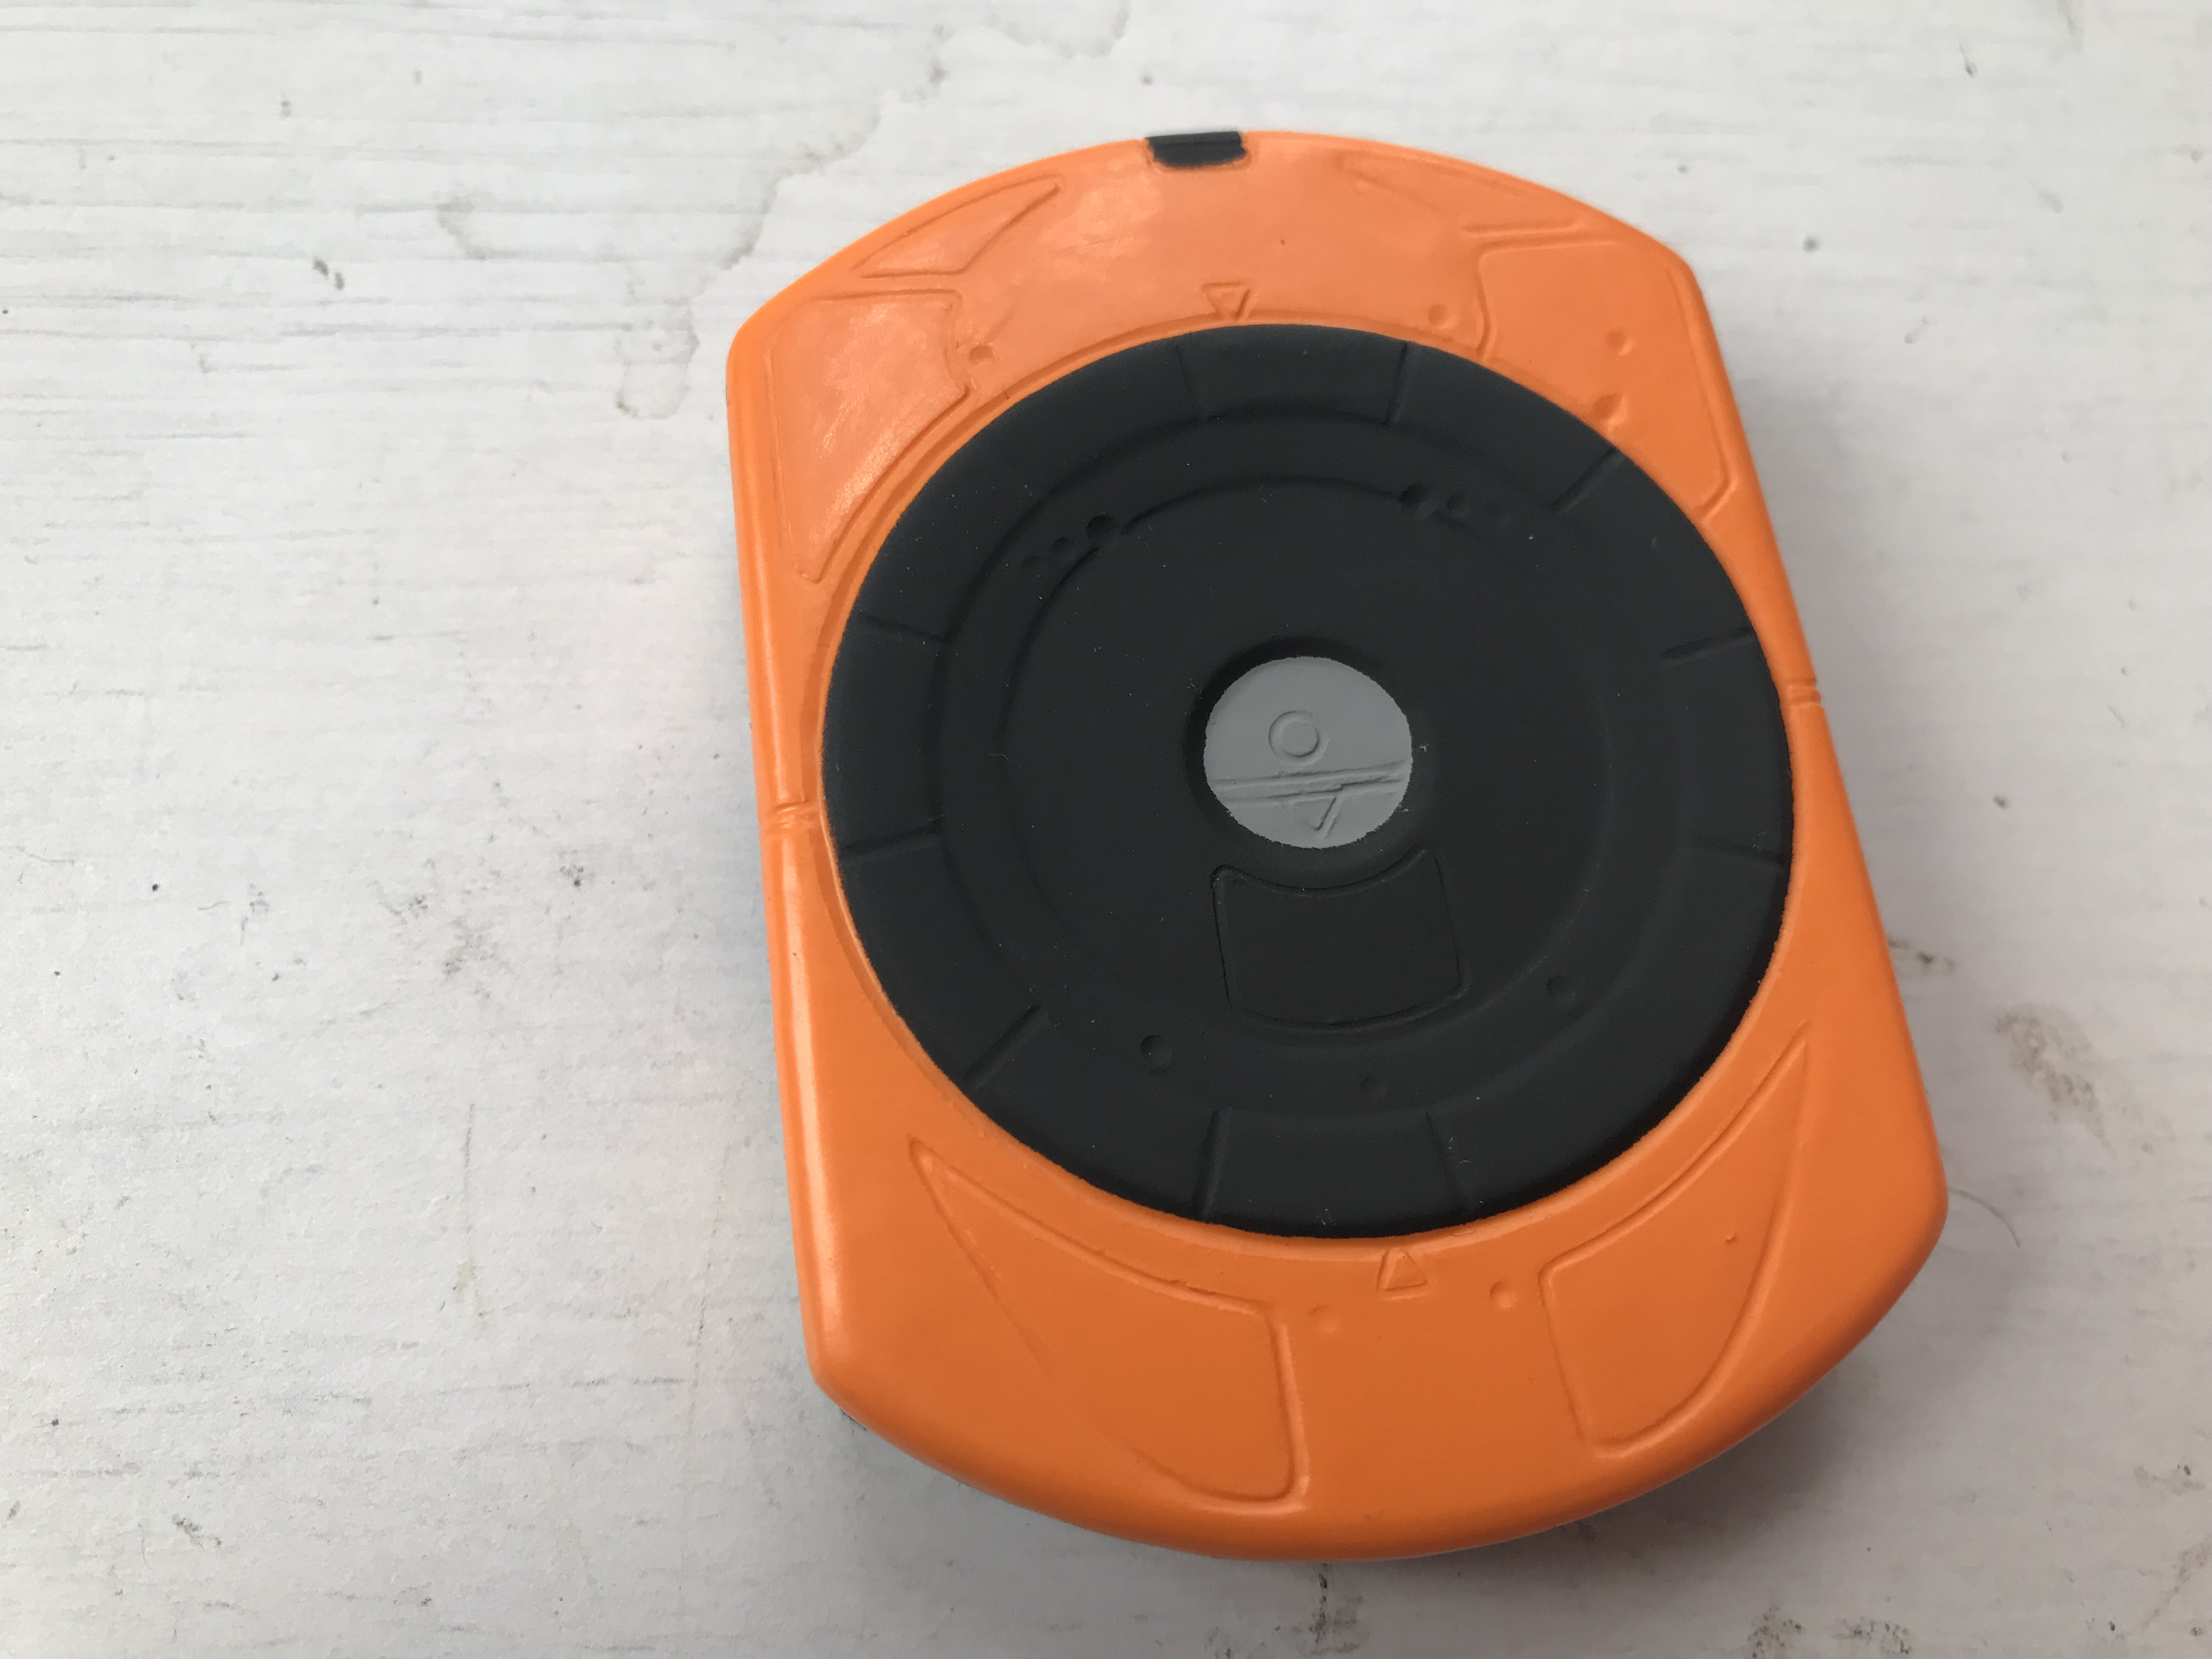amazon_bot: (683, 89, 2045, 1596)
